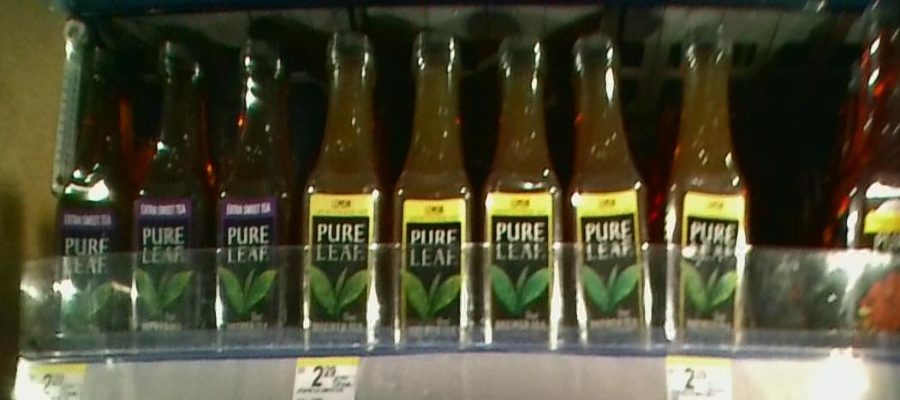bottle: (657, 15, 760, 369), (565, 15, 654, 365), (295, 27, 384, 358), (480, 28, 566, 368), (389, 25, 477, 349), (128, 36, 209, 357), (213, 31, 291, 357), (52, 31, 123, 368)
